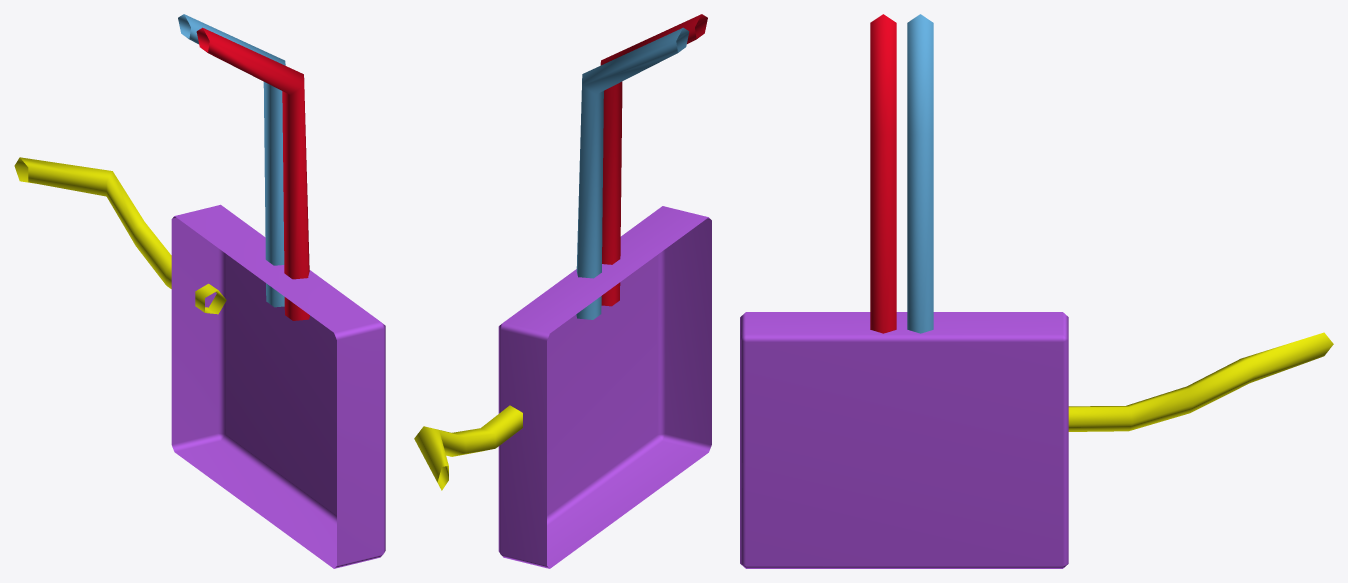
The model's file is Wife.fbx.
The picture shows the model from 3 angles, left to right: view 1: azimuth 30°, elevation 25°; view 2: azimuth 150°, elevation 25°; view 3: azimuth 270°, elevation 25°; orthographic projection.
Parts seen in each view (by area): view 1: Wife; view 2: Wife; view 3: Wife.
Part boxes in pixels (x1,y1,x2,y2): Wife: (14, 14, 385, 568); Wife: (414, 14, 711, 568); Wife: (740, 14, 1333, 568).
Bounding box in the file's own units: 0.4165 × 1.77 × 1.9.
